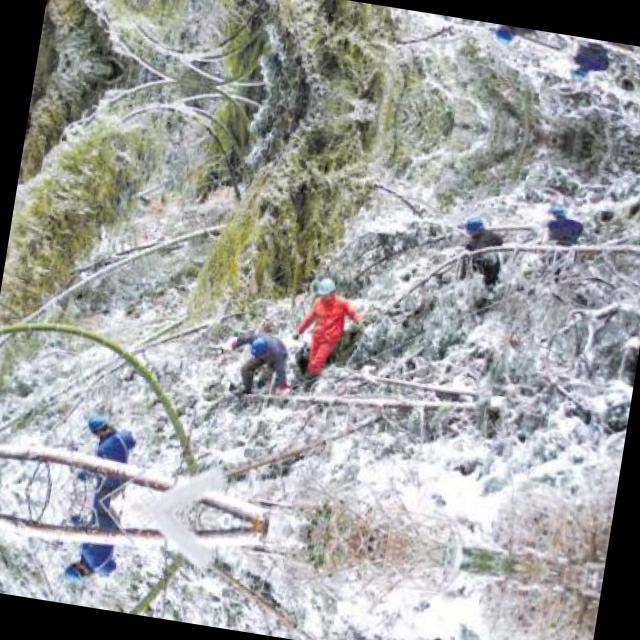helmet: (246, 328, 274, 362), (312, 272, 341, 304), (88, 408, 116, 436), (64, 560, 92, 588), (461, 215, 486, 240), (492, 24, 518, 47)
